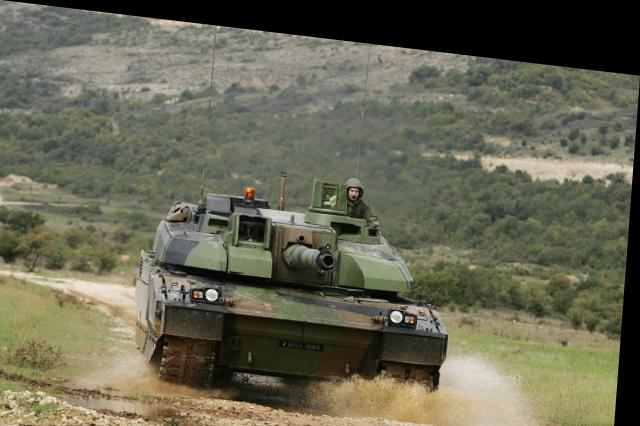other: (339, 158, 369, 216)
tank: (138, 190, 428, 389)
